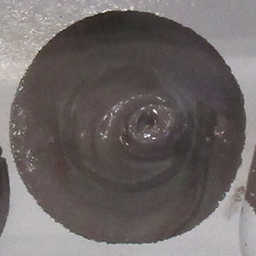perfect: (7, 6, 248, 246)
